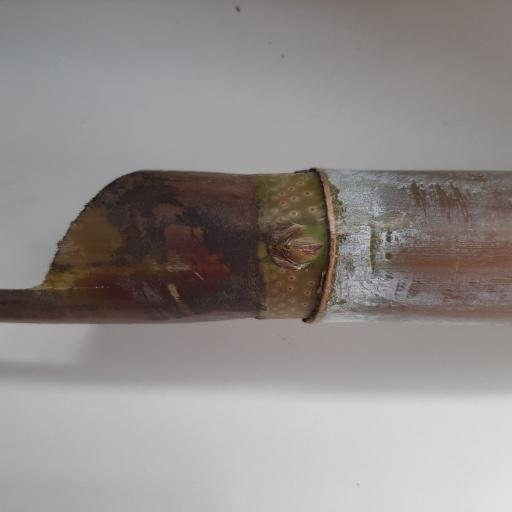Bud: (272, 227, 325, 268)
